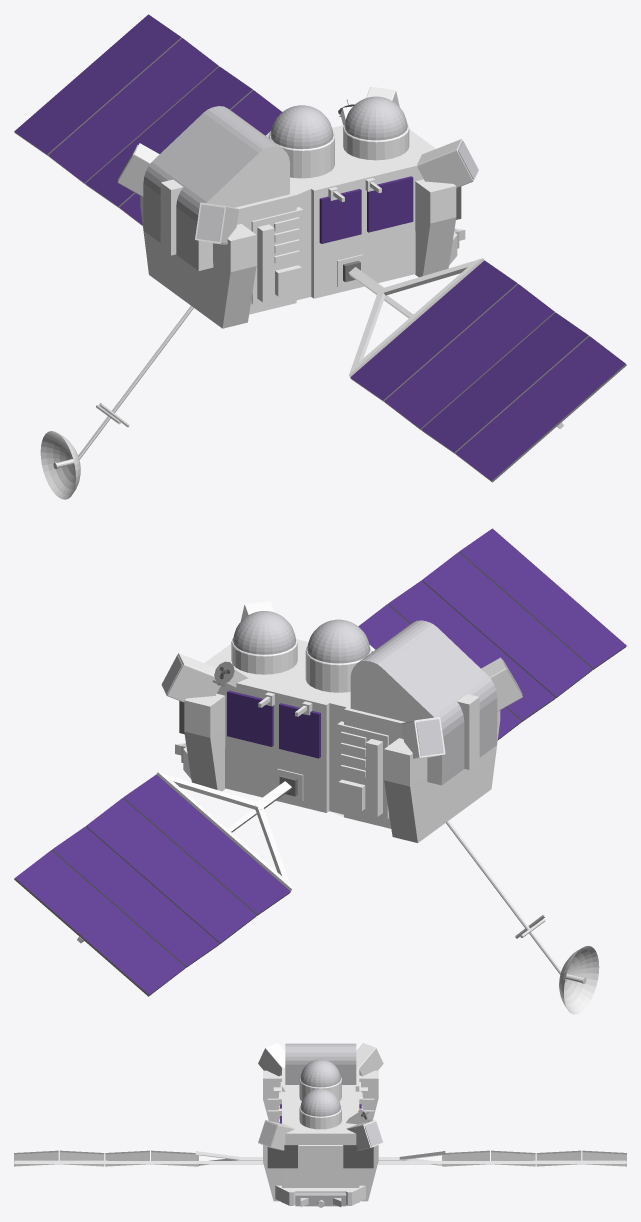
File: Gamma Ray Observatory.glb
The picture shows the model from 3 angles, top to bottom: view 1: azimuth 30°, elevation 25°; view 2: azimuth 150°, elevation 25°; view 3: azimuth 270°, elevation 25°; orthographic projection. The views are drawn at different scales.
Visible parts, largest first — view 1: <LWODefault>; view 2: <LWODefault>; view 3: <LWODefault>.
Part boxes in pixels (bbox=[...]): <LWODefault>: bbox=[14, 14, 626, 499]; <LWODefault>: bbox=[14, 528, 626, 1014]; <LWODefault>: bbox=[14, 1043, 626, 1207].
Size of the model in its own units: 1.51 by 1.21 by 3.17.
